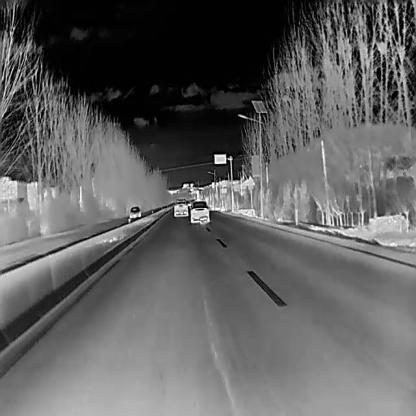car: (189, 200, 209, 223), (173, 198, 188, 217), (129, 205, 140, 218)
